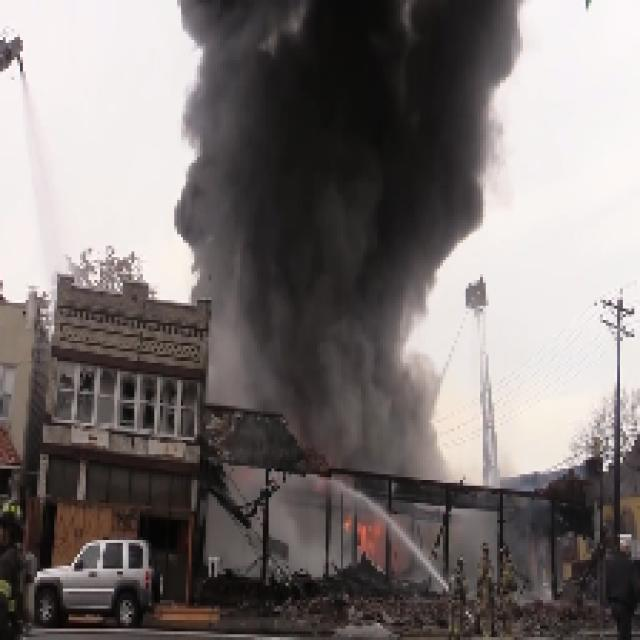Smoke: (183, 3, 466, 406), (468, 3, 528, 226), (314, 408, 452, 468)
